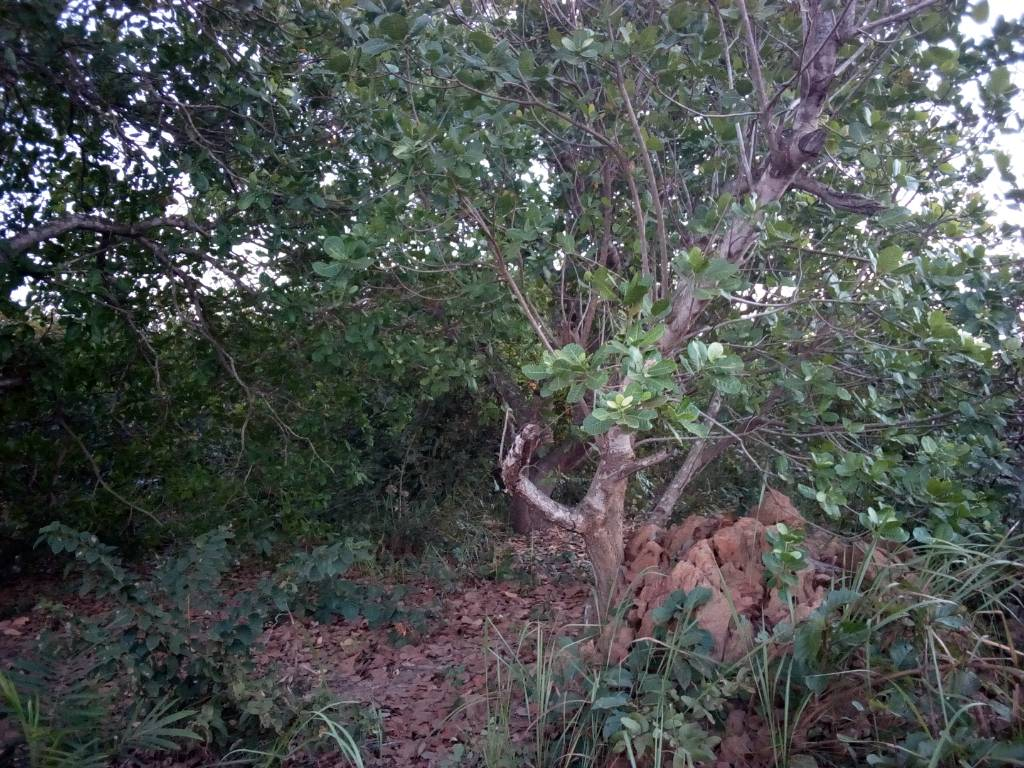Termites: (636, 519, 810, 620)
